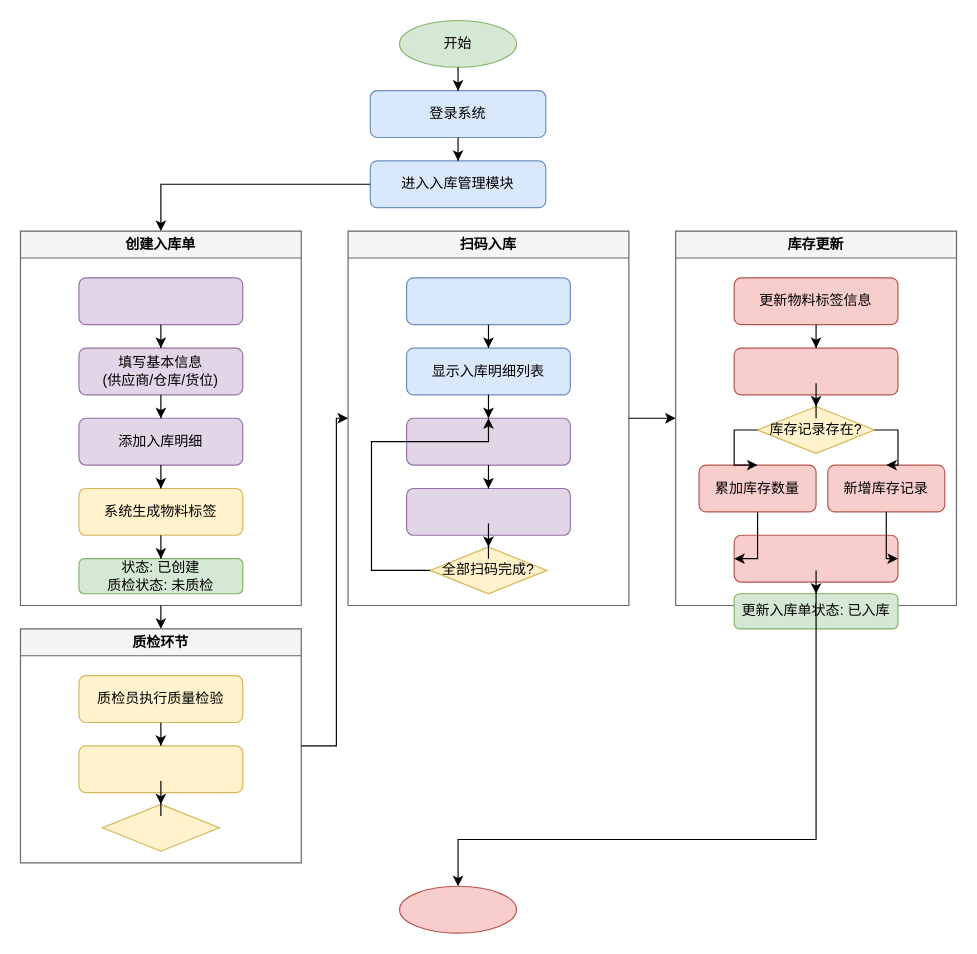
Image size: 977x954. Some labels were removed from this diagram. Each missing label, with the centre of its shape:
"入库完成" belongs at (x=457, y=909).
"匹配明细并累加数量" belongs at (x=487, y=511).
"填写合格数量" belongs at (x=160, y=769).
"扫描入库单二维码" belongs at (x=487, y=301).
"扫描物料标签二维码" belongs at (x=487, y=441).
"新增库存流水" belongs at (x=815, y=558).
"查询库存记录" belongs at (x=815, y=371).
"质检通过?" belongs at (x=160, y=827).
"选择入库类型 (原料/外协/车间)" belongs at (x=160, y=301).
